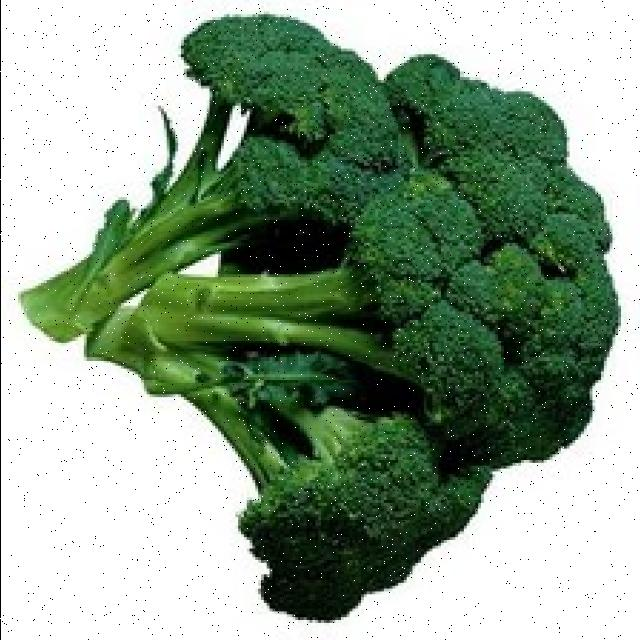Broccoli: (347, 58, 618, 468), (348, 58, 616, 466), (241, 420, 489, 621), (241, 421, 489, 621), (387, 56, 609, 275), (183, 16, 414, 224), (183, 16, 411, 222)
